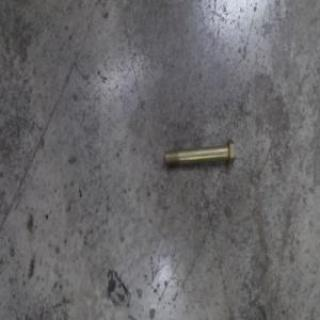Bolttrack_idkeyframe: (162, 136, 234, 168)
